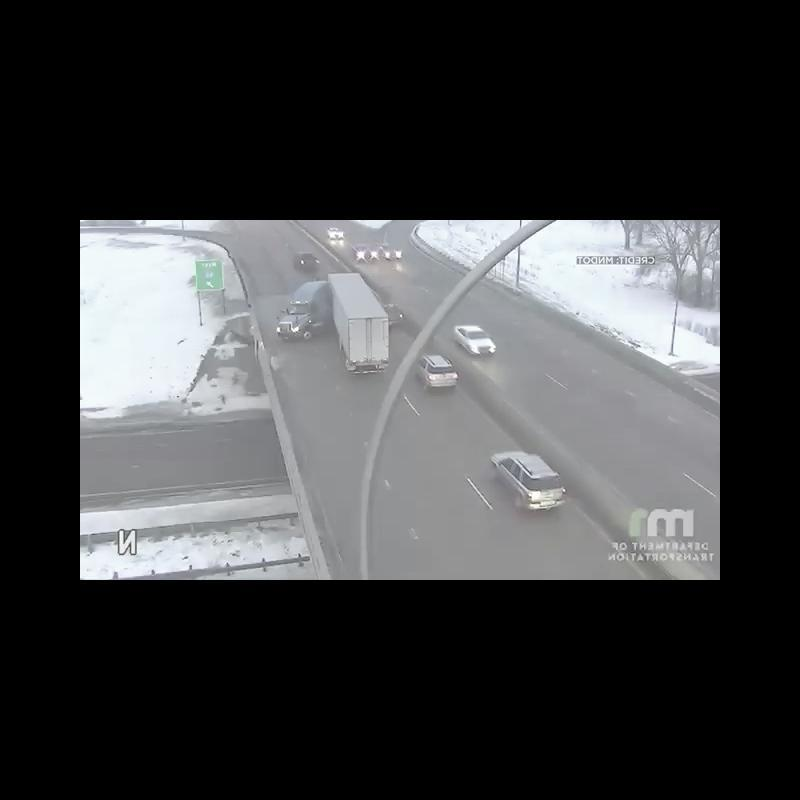car: (488, 450, 567, 511), (416, 354, 459, 393), (456, 323, 496, 355), (293, 250, 319, 273), (380, 240, 401, 262), (387, 301, 404, 326)
truck: (276, 272, 388, 373)
